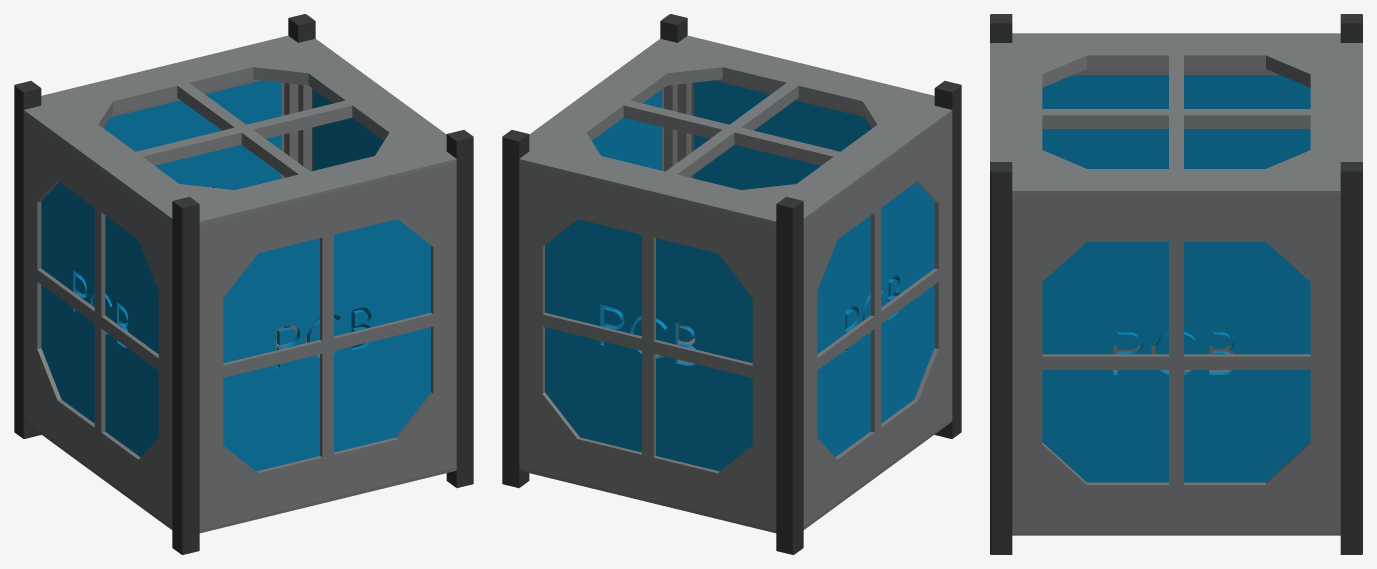
File: cubesat.glb
3 renders of one model, left to right at view 1: azimuth 30°, elevation 25°; view 2: azimuth 150°, elevation 25°; view 3: azimuth 270°, elevation 25°, orthographic. The views are drawn at different scales.
Parts seen in each view (by area): view 1: currentmodel.wrl.cleaner.materialmerger.gles; view 2: currentmodel.wrl.cleaner.materialmerger.gles; view 3: currentmodel.wrl.cleaner.materialmerger.gles.
Part boxes in pixels (x1=…): currentmodel.wrl.cleaner.materialmerger.gles: x1=14, y1=14, x2=473, y2=554; currentmodel.wrl.cleaner.materialmerger.gles: x1=502, y1=14, x2=961, y2=554; currentmodel.wrl.cleaner.materialmerger.gles: x1=990, y1=14, x2=1362, y2=554.
Size of the model in its own units: 100 by 114 by 100.
